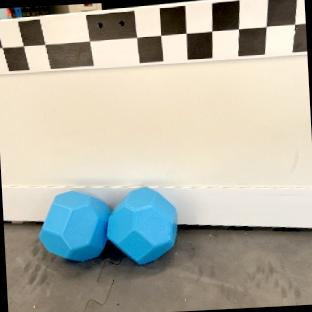V5_BLUE: (107, 187, 177, 263), (39, 191, 109, 260)
